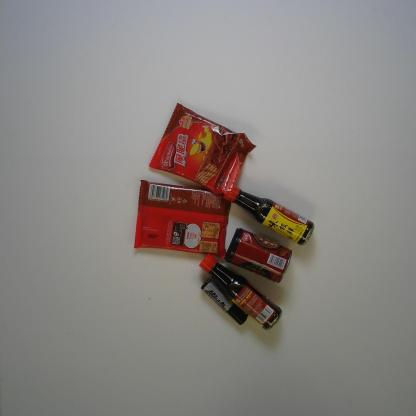Canned Food: (223, 227, 294, 284)
Dessert: (147, 102, 258, 194), (132, 180, 232, 260)
Seasoner: (199, 253, 283, 331), (223, 184, 315, 246)
Stationery: (200, 278, 250, 326)
